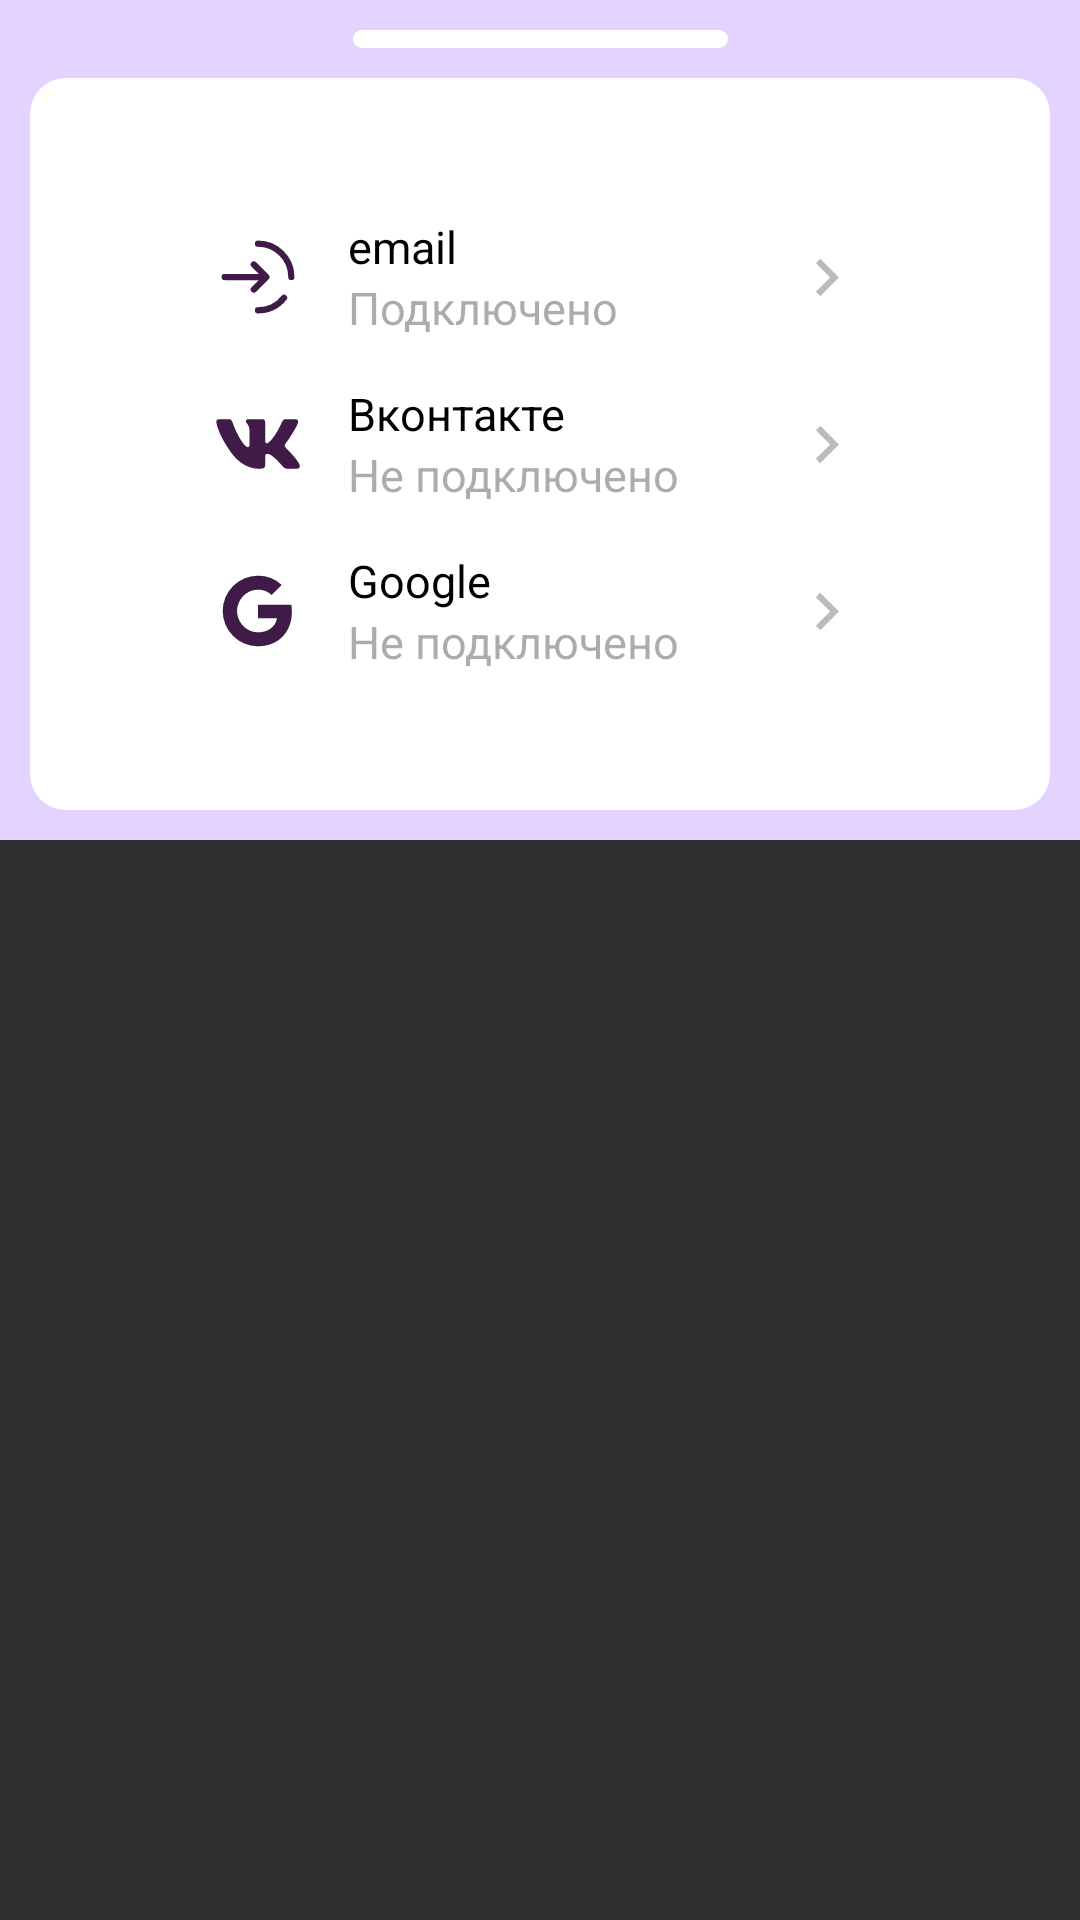

Icon bounding boxes for this 1080*1920 phone screenshot, format {"left": x1, "top": y1, "right": x2, "bottom": y2}:
arrow right: {"left": 816, "top": 259, "right": 839, "bottom": 296}, {"left": 816, "top": 426, "right": 839, "bottom": 463}, {"left": 816, "top": 593, "right": 839, "bottom": 630}
login: {"left": 221, "top": 240, "right": 295, "bottom": 314}
